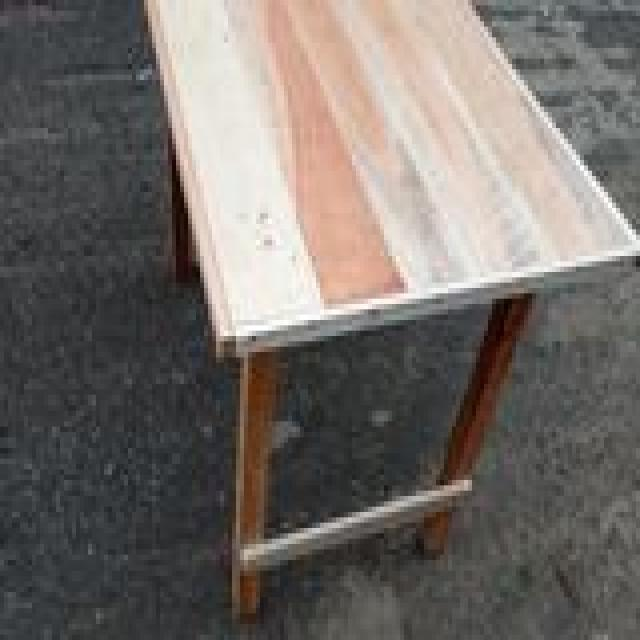others: (144, 5, 636, 619)
